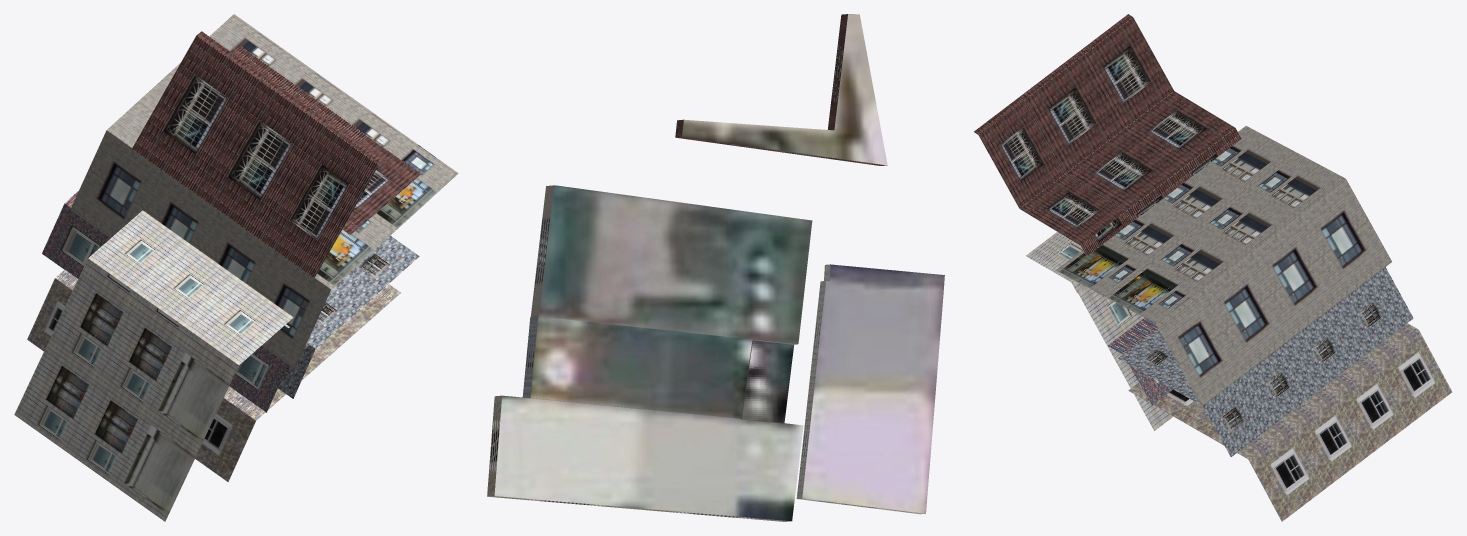
The picture shows the model from 3 angles, left to right: view 1: azimuth 30°, elevation 25°; view 2: azimuth 150°, elevation 25°; view 3: azimuth 270°, elevation 25°; orthographic projection. The views are drawn at different scales.
Size of the model in its own units: 22.74 by 25.73 by 26.86.
18 materials, 18 textured.
